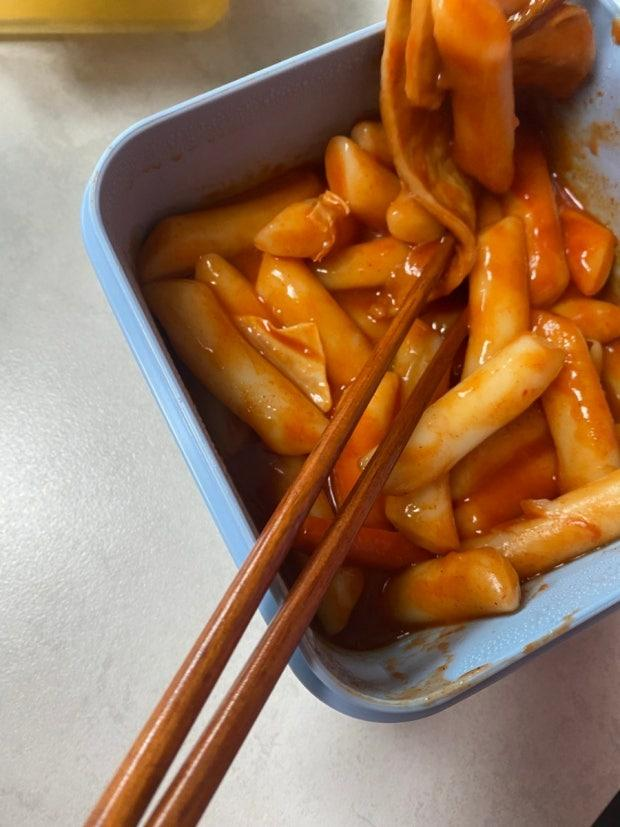Lunch Box: (82, 0, 619, 721)
